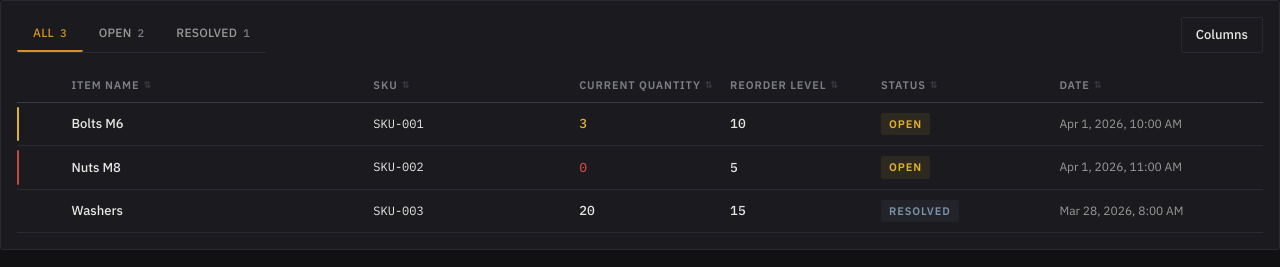
Test case: AlertsPanel › filters to show only open alerts
Click the button with class "filter-tab" showing "Open 2".
click(122, 34)  # box [83,17,160,52]
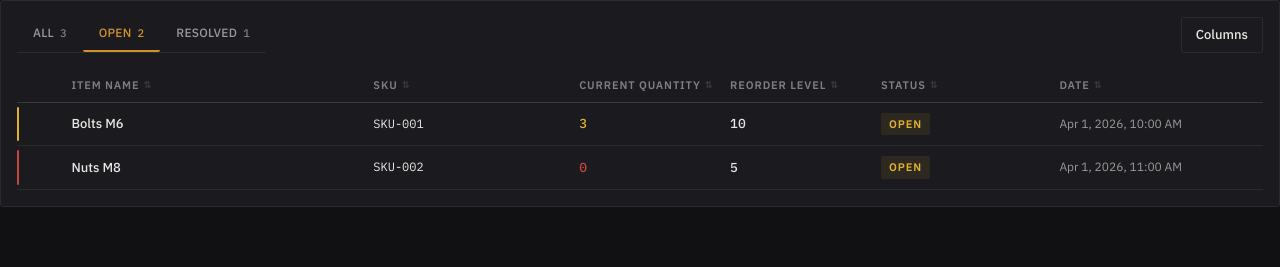
Expected: the text "Bolts M6" is shown, [55,102,357,146]
Result: the text "Washers" is gone
